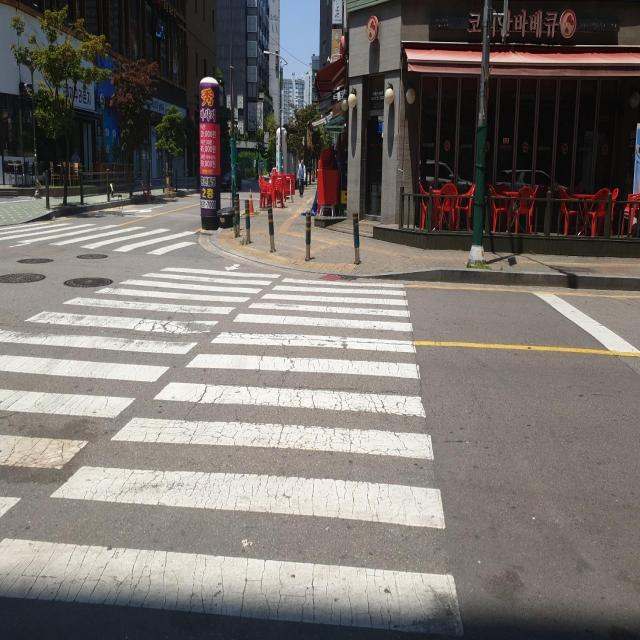횡단보도: (0, 257, 468, 640), (0, 218, 196, 258)
